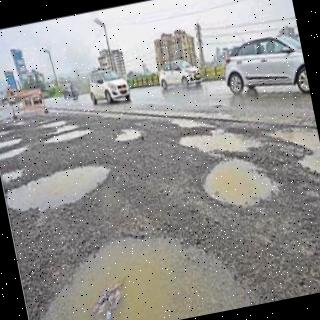pothole: (41, 238, 248, 320), (6, 164, 112, 214), (202, 159, 280, 206), (179, 127, 261, 151), (115, 130, 141, 141)
